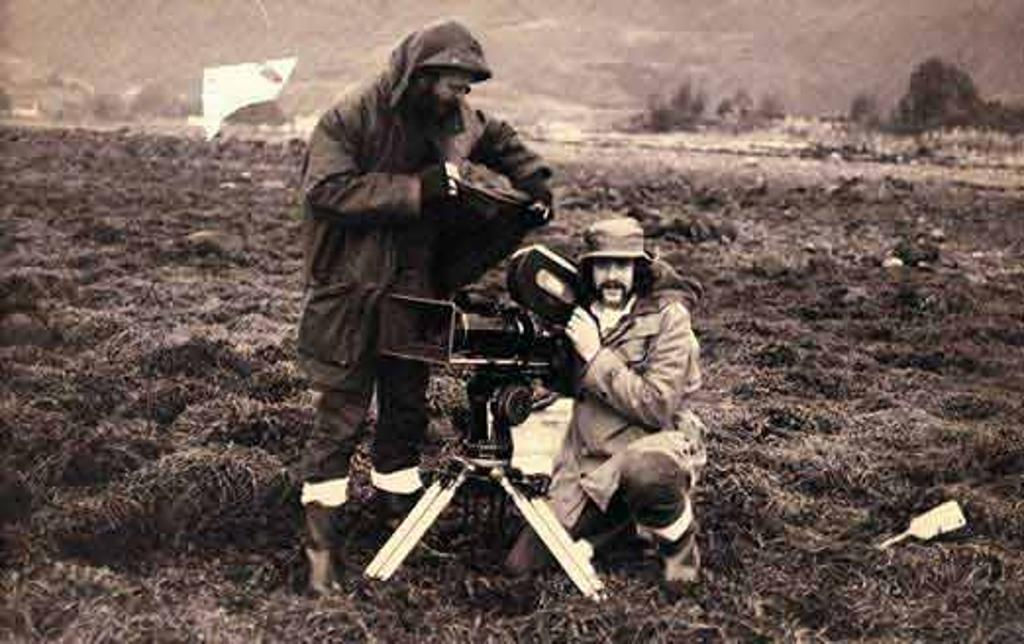face: (593, 248, 633, 303), (433, 59, 470, 107)
